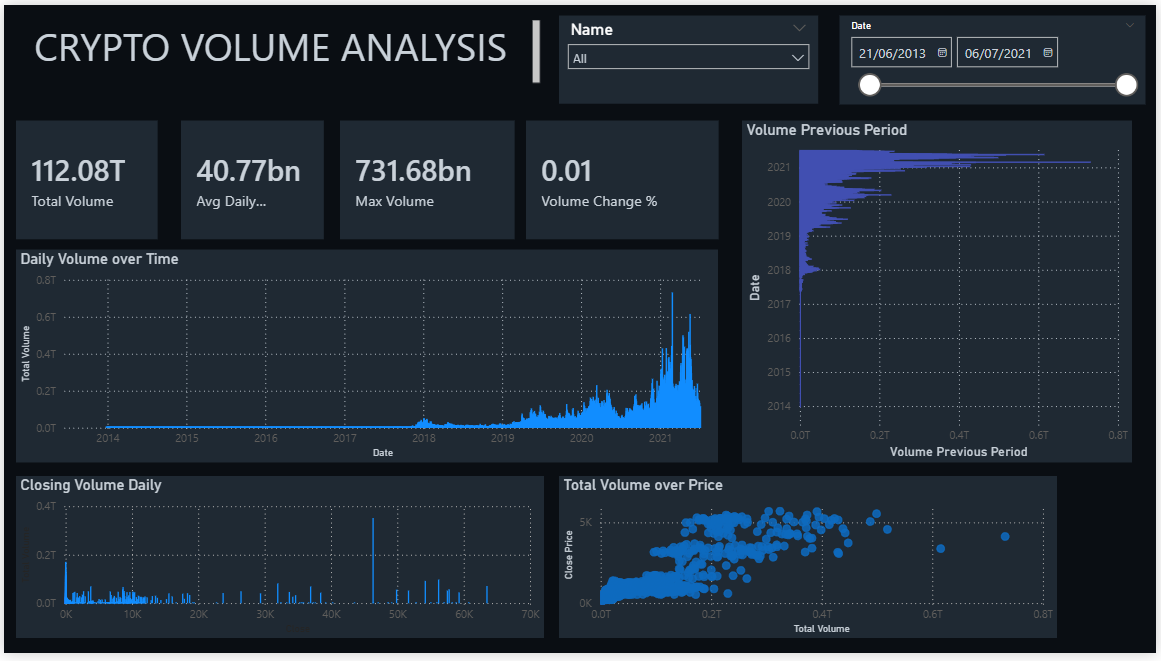

This screenshot's page, from the dashboard's own definition file:
{"tool":"powerbi","page":{"name":"VOLUME analysis","canvas":[1280,720],"ordinal":2},"visuals":[{"type":"textbox","box":[0,12,600,82],"z":0},{"type":"slicer","fields":{"Values":["CRYPTODATA.Date"]},"box":[928,12,340,98],"z":1000},{"type":"cardVisual","fields":{"Data":["_MEASURE.Total Volume"]},"box":[13.6,128.2,157.1,131.8],"z":2000},{"type":"slicer","fields":{"Values":["CRYPTODATA.Name"]},"box":[616,12,288,98],"z":3000},{"type":"cardVisual","fields":{"Data":["_MEASURE.Avg Daily Volume"]},"box":[195.9,128.2,158.8,131.8],"z":4000},{"type":"cardVisual","fields":{"Data":["_MEASURE.Max Volume"]},"box":[373.1,128.2,193.9,131.8],"z":5000},{"type":"cardVisual","fields":{"Data":["_MEASURE.Volume Change %"]},"box":[580.3,128.2,214,131.8],"z":7000},{"type":"columnChart","title":"Daily Volume over Time","fields":{"Category":["CRYPTODATA.Date"],"Y":["_MEASURE.Total Volume"]},"box":[13.3,271.7,780,236.7],"z":8000},{"type":"columnChart","title":"Closing Volume Daily","fields":{"Y":["_MEASURE.Total Volume"],"Category":["CRYPTODATA.Close"]},"box":[13.3,523.3,586.7,180],"z":9000},{"type":"scatterChart","title":"Total Volume over Price","fields":{"X":["_MEASURE.Total Volume"],"Y":["_MEASURE.Close Price"],"Category":["CRYPTODATA.Date"]},"box":[616.7,523.3,553.3,180],"z":10000},{"type":"barChart","title":"Volume Previous Period","fields":{"Category":["CRYPTODATA.Date"],"Y":["_MEASURE.Volume Previous Period"]},"box":[820,128.3,433.3,380],"z":11000}]}

Visuals, with their boxes in screenshot pixels (x1, y1, x2, y2), scaled from the page's 1280x720 canvas onto the 1161x661 screenshot:
textbox: 0, 11, 544, 86
slicer - CRYPTODATA.Date: 842, 11, 1150, 101
cardVisual - _MEASURE.Total Volume: 12, 118, 155, 239
slicer - CRYPTODATA.Name: 559, 11, 820, 101
cardVisual - _MEASURE.Avg Daily Volume: 178, 118, 322, 239
cardVisual - _MEASURE.Max Volume: 338, 118, 514, 239
cardVisual - _MEASURE.Volume Change %: 526, 118, 720, 239
"Daily Volume over Time" columnChart: 12, 249, 720, 467
"Closing Volume Daily" columnChart: 12, 480, 544, 646
"Total Volume over Price" scatterChart: 559, 480, 1061, 646
"Volume Previous Period" barChart: 744, 118, 1137, 467
